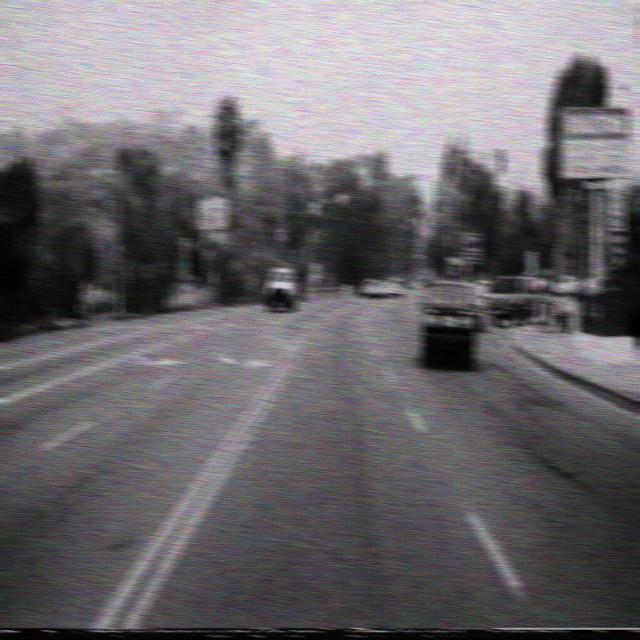speedLimit35: (606, 191, 626, 232)
